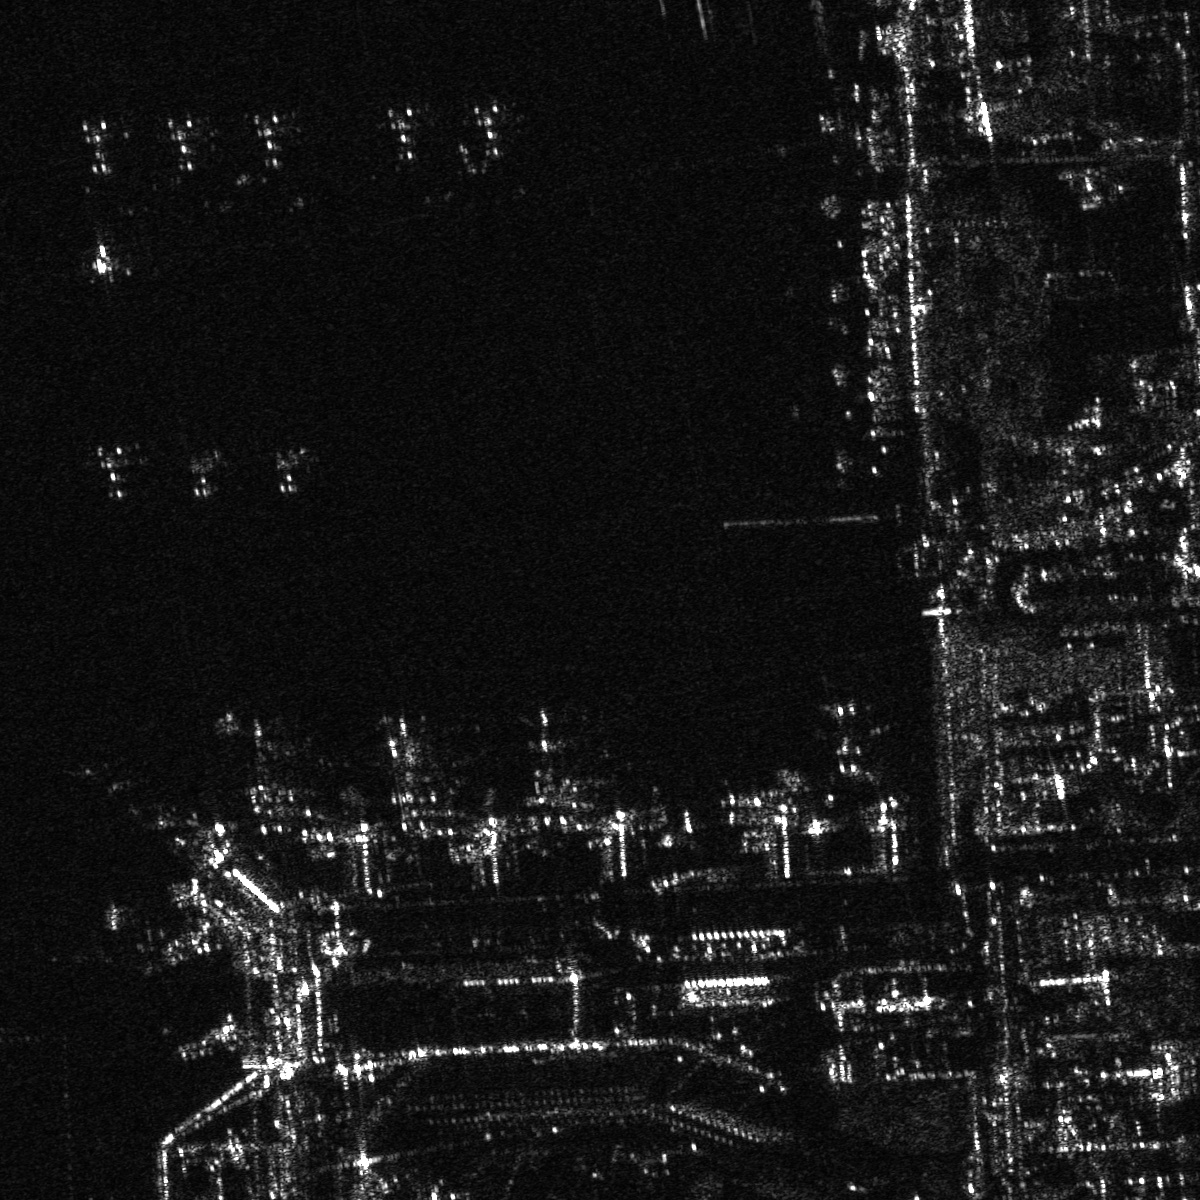A220: (796, 698, 892, 787), (184, 447, 234, 501)
A320/321: (269, 444, 316, 499)
ARJ21: (79, 442, 149, 501), (71, 241, 137, 284)
Boeing787: (508, 703, 587, 816)
other: (368, 712, 448, 838), (218, 711, 299, 811), (147, 105, 229, 184), (237, 105, 316, 180), (451, 95, 531, 168), (62, 108, 136, 179), (373, 96, 435, 168)
